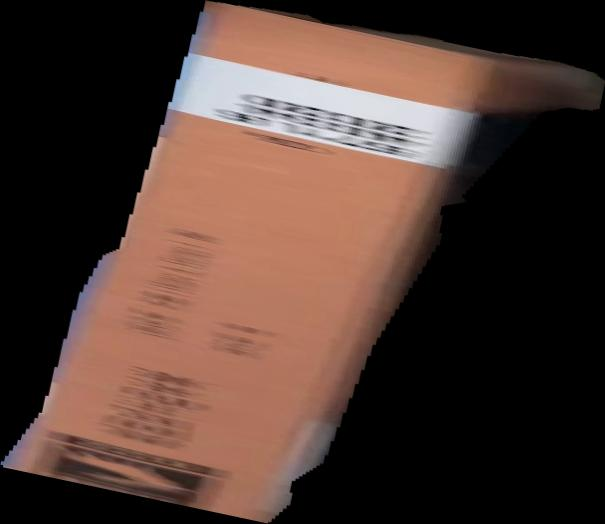reverse: (1, 1, 605, 524)
